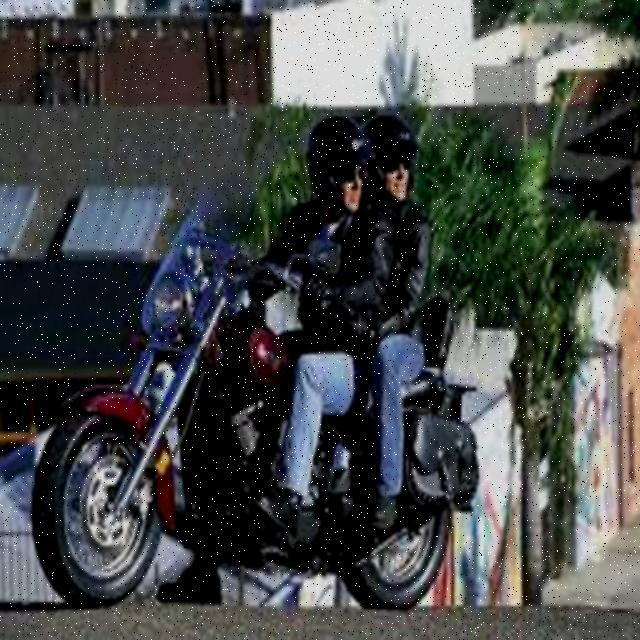not_triplets: (48, 68, 460, 597)
with-helmet: (288, 108, 380, 253), (369, 93, 428, 224)
